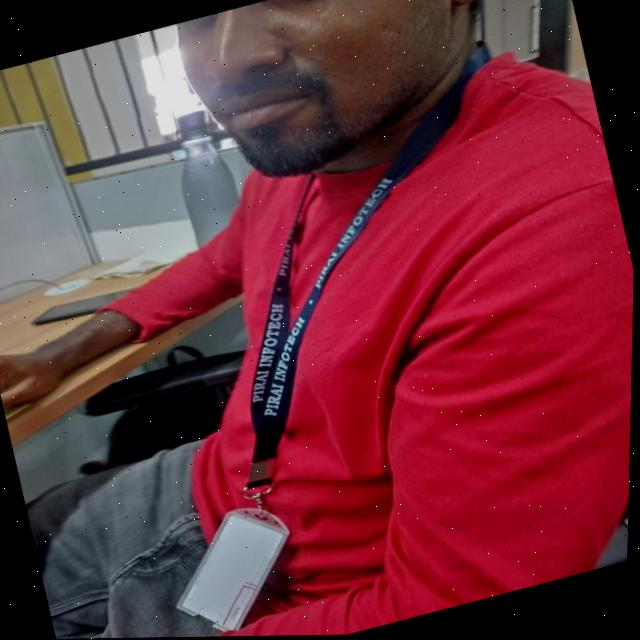id_card: (62, 52, 622, 639)
